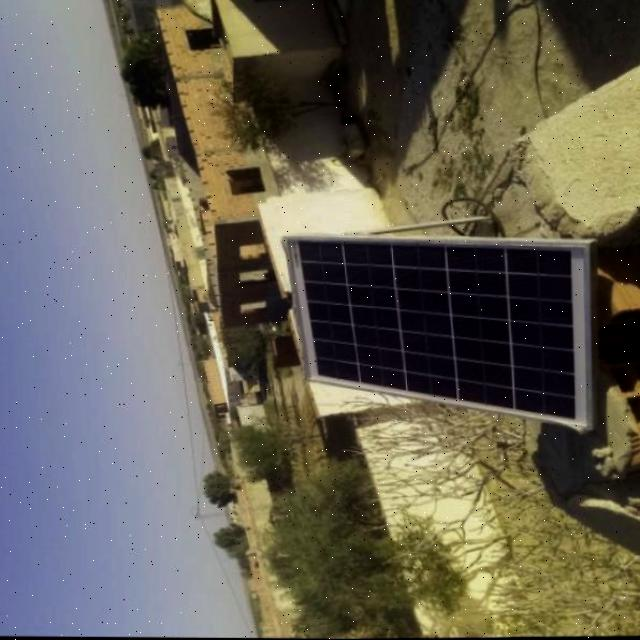Normal Solar Panel: (286, 234, 591, 430)
